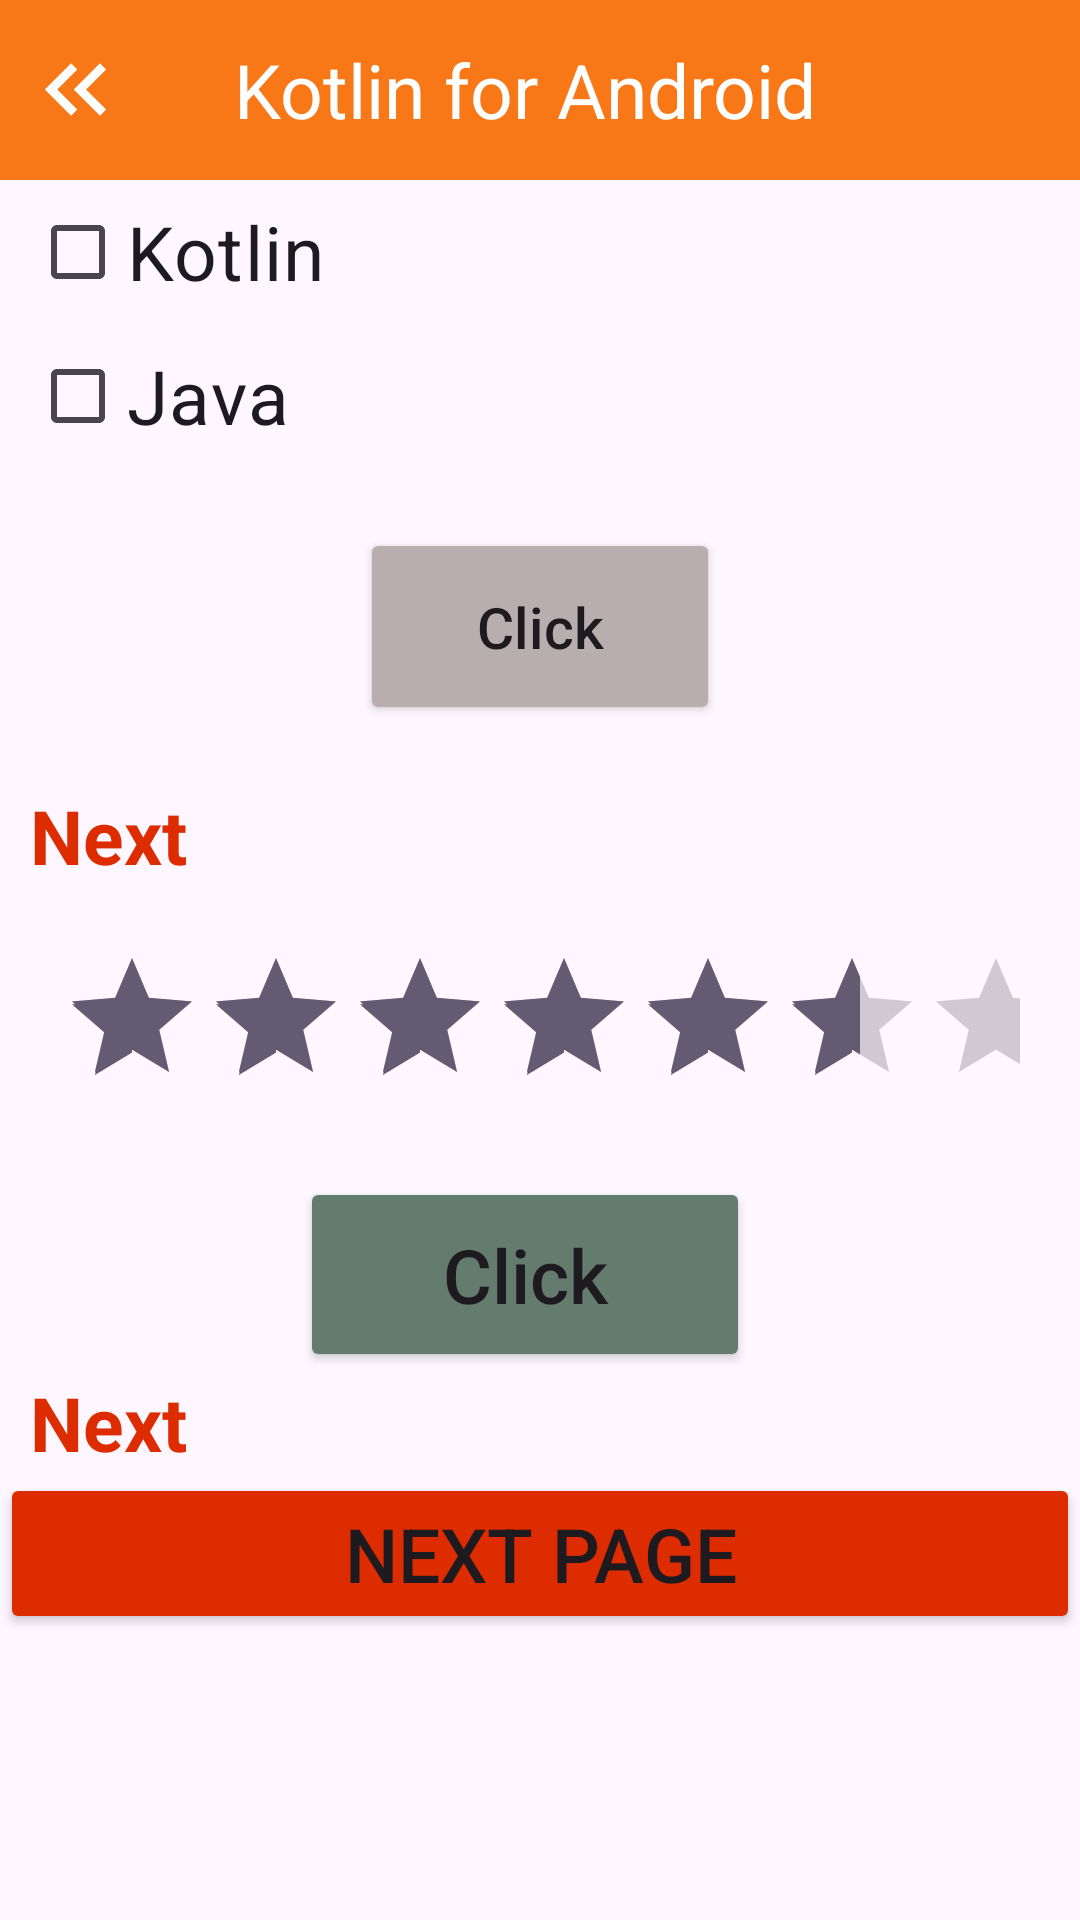

Point at icon controls on the screen. Image size 1080 × 1920, points as (x,y).
keyboard double arrow left: (75,89)
